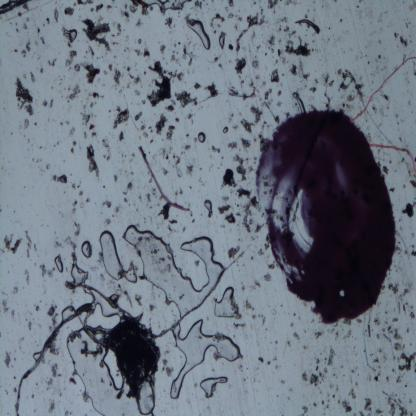Air bubble: (123, 224, 224, 317), (168, 319, 243, 399), (65, 327, 126, 414), (100, 229, 138, 284), (86, 292, 119, 323), (213, 287, 242, 320), (186, 17, 211, 50), (138, 0, 190, 12), (200, 376, 228, 398), (68, 254, 86, 286), (292, 92, 306, 113), (80, 238, 94, 259), (62, 27, 78, 44), (60, 303, 76, 319), (54, 254, 64, 273), (196, 128, 206, 144), (204, 198, 212, 216), (219, 32, 226, 49), (31, 350, 42, 359), (222, 126, 229, 134)
Background material: (97, 313, 162, 395), (154, 144, 196, 182), (147, 60, 176, 108), (233, 11, 264, 55), (237, 186, 263, 236), (81, 15, 112, 54), (336, 66, 366, 106), (176, 82, 218, 108), (390, 282, 416, 319), (13, 78, 33, 126), (302, 354, 329, 388), (316, 69, 336, 112), (393, 343, 416, 377), (74, 61, 102, 85), (382, 391, 410, 415), (284, 36, 312, 59), (229, 77, 257, 98), (83, 146, 100, 178), (372, 325, 400, 344), (293, 18, 321, 36), (71, 189, 89, 215), (290, 60, 312, 80), (373, 351, 387, 382), (158, 203, 178, 224), (0, 236, 22, 255), (112, 106, 130, 129), (235, 155, 250, 182), (81, 115, 96, 139), (66, 83, 84, 102), (399, 200, 416, 220), (127, 69, 143, 90), (23, 228, 34, 258), (223, 166, 238, 188), (119, 0, 134, 22), (249, 104, 265, 124), (154, 112, 169, 133), (326, 344, 339, 368), (182, 42, 195, 66), (47, 301, 58, 328), (62, 47, 78, 65), (121, 177, 134, 199), (226, 240, 240, 260), (277, 22, 297, 36), (162, 358, 176, 378), (164, 124, 176, 145), (39, 264, 55, 279), (234, 56, 249, 72), (135, 42, 150, 58), (51, 172, 68, 186), (0, 296, 12, 314), (240, 117, 252, 135), (112, 66, 122, 87), (262, 88, 273, 107), (244, 296, 256, 313), (2, 349, 12, 369), (50, 361, 61, 379), (277, 48, 288, 66), (216, 202, 232, 214), (24, 309, 34, 328), (266, 34, 276, 53), (269, 67, 280, 84), (23, 266, 31, 289), (362, 398, 376, 411), (22, 38, 32, 56), (114, 21, 124, 39), (72, 219, 82, 237), (62, 4, 76, 16), (240, 136, 251, 151), (66, 237, 77, 251), (341, 400, 352, 414), (380, 89, 391, 103), (225, 210, 236, 224), (257, 312, 268, 326), (400, 34, 410, 49), (94, 1, 104, 16), (86, 89, 101, 99), (99, 198, 112, 209), (47, 399, 57, 413), (164, 14, 174, 28), (348, 386, 357, 401), (228, 140, 240, 151), (134, 292, 143, 306), (116, 129, 125, 143), (314, 328, 324, 340), (300, 402, 309, 415), (251, 56, 259, 70), (267, 0, 278, 10), (158, 41, 168, 52), (211, 144, 220, 156), (46, 58, 58, 67), (42, 98, 54, 107), (100, 217, 113, 225), (77, 0, 94, 6), (410, 242, 416, 259), (256, 354, 266, 364), (264, 270, 272, 282), (53, 7, 59, 23), (67, 376, 77, 385), (167, 101, 177, 110), (408, 179, 416, 190), (294, 330, 300, 342), (309, 85, 318, 93), (134, 112, 143, 120), (275, 88, 282, 97), (14, 284, 18, 296)
Cellulose filter fibre: (14, 300, 92, 416)
Cotton: (352, 56, 416, 121), (371, 142, 416, 173)
Edge of slide: (0, 0, 28, 15)
Microfibre: (138, 146, 191, 212)
Pen: (258, 112, 398, 325)
